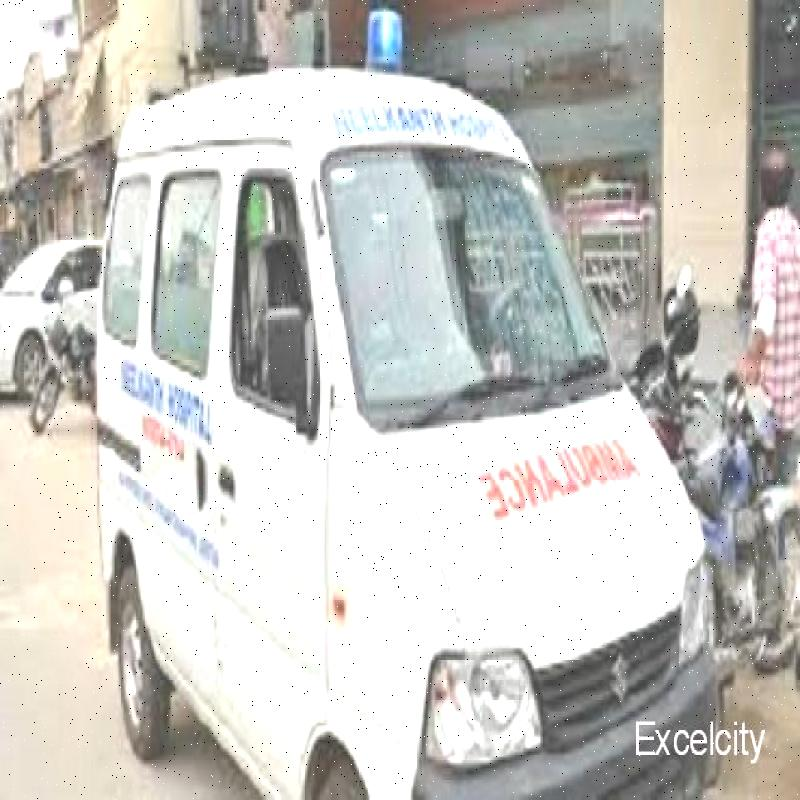ambulance: (92, 32, 746, 798)
